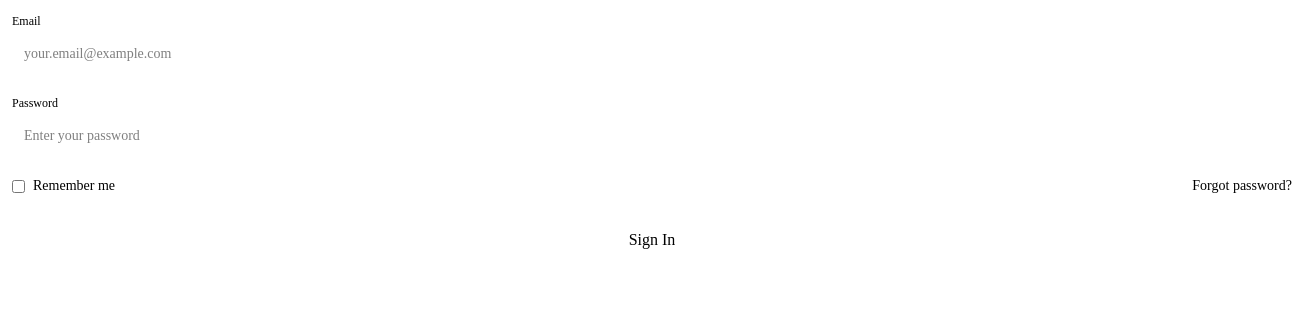
LoginForm › clears the email error once the user types and resubmits
The width and height of the screenshot is (1304, 325).
// Trigger the initial error
Click the button "Sign In" at (652, 240), box [12, 216, 1292, 264]
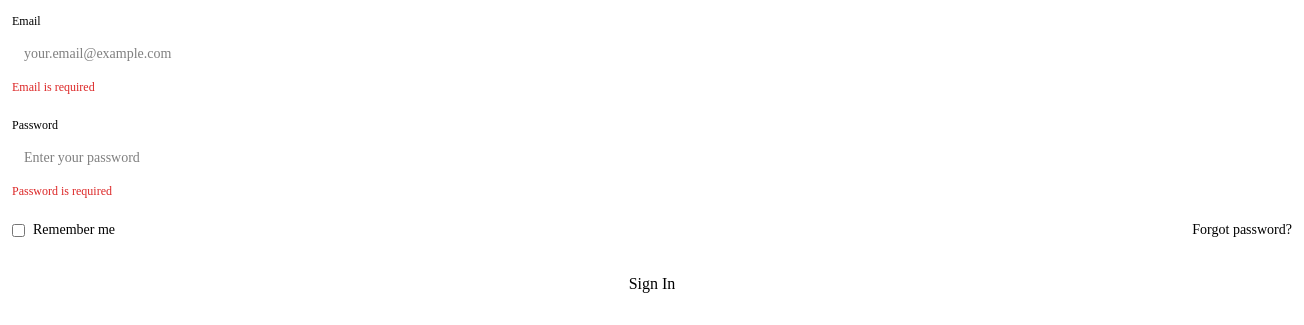
Check: the text "Email is required" is shown, box [12, 80, 95, 94]
Type "user@example.com" into the field labelled "Email" at (652, 54), box [12, 34, 1292, 74]
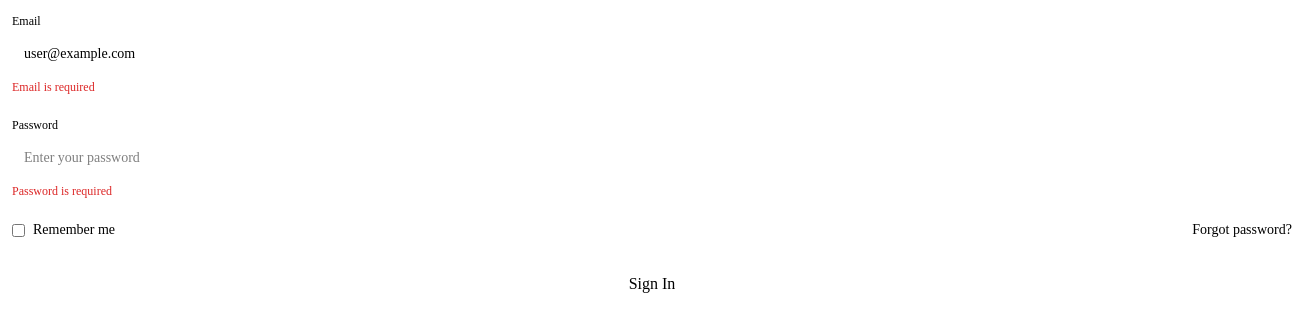
Type "Sup3rSecret!" into the password field labelled "Password" at (652, 158), box [12, 138, 1292, 178]
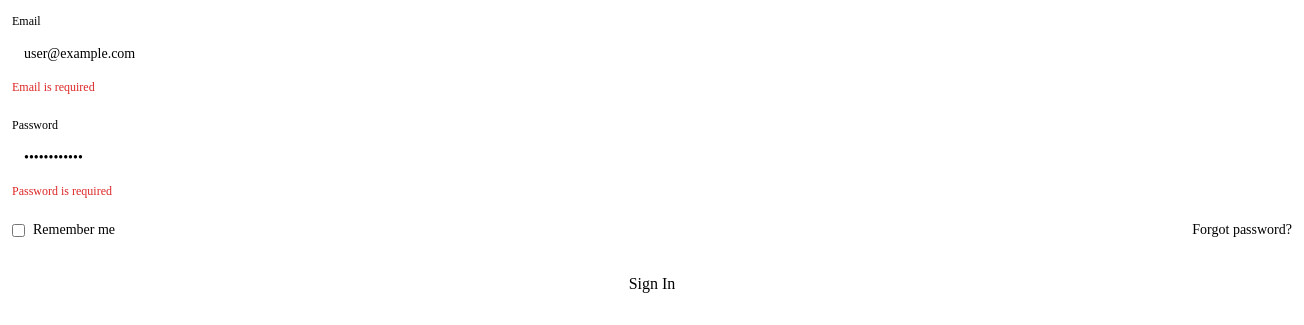
Click the button "Sign In" at (652, 284), box [12, 260, 1292, 308]
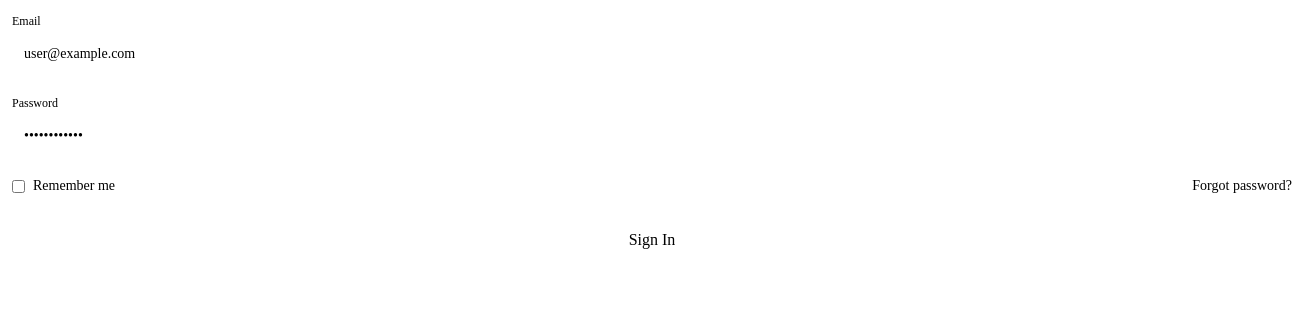
Check: the text "Email is required" is gone
Check: the text "Password is required" is gone
